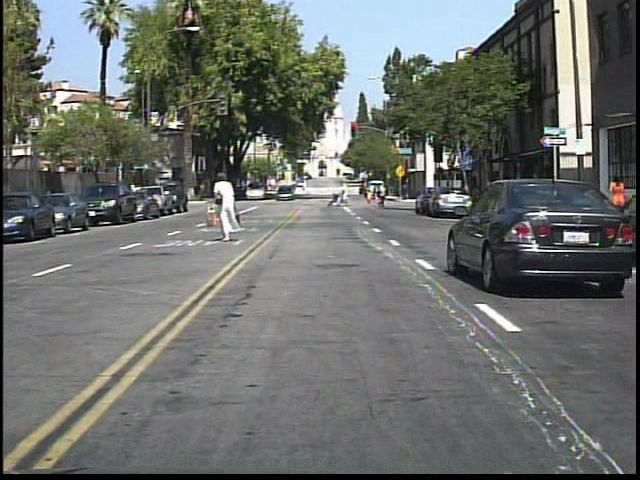person: (207, 169, 247, 248), (607, 167, 630, 230), (501, 169, 521, 219), (374, 179, 391, 210), (340, 180, 352, 210)
